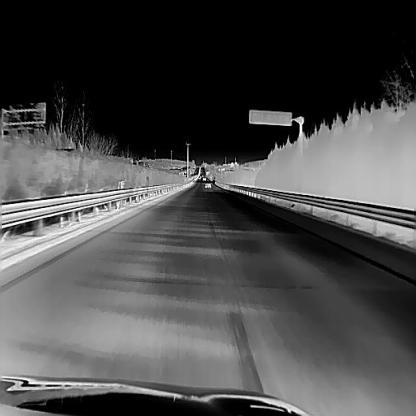car: (204, 178, 211, 187)
